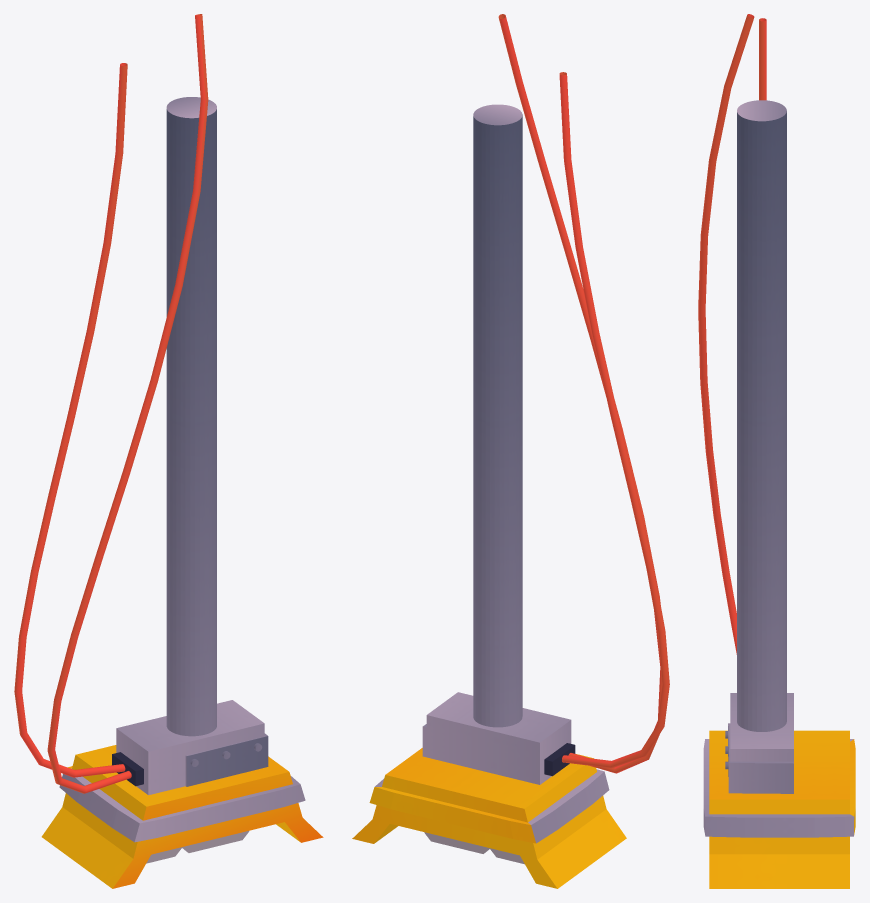
Rendered from gatherer.glb.
The picture shows the model from 3 angles, left to right: view 1: azimuth 30°, elevation 25°; view 2: azimuth 150°, elevation 25°; view 3: azimuth 270°, elevation 25°; orthographic projection. The views are drawn at different scales.
Visible parts, largest first — view 1: Gatherer; view 2: Gatherer; view 3: Gatherer.
Boxes of the visible parts, x1,y1,x2,y2 form: Gatherer: (14,14,323,888); Gatherer: (352,14,669,888); Gatherer: (698,14,855,888).
Size of the model in its own units: 0.8383 by 2.42 by 0.4111.
1 material, 1 textured.
